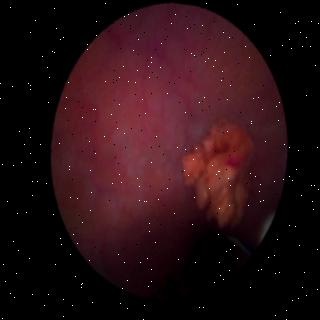stone: (178, 126, 250, 230)
tissue: (52, 9, 277, 290)
